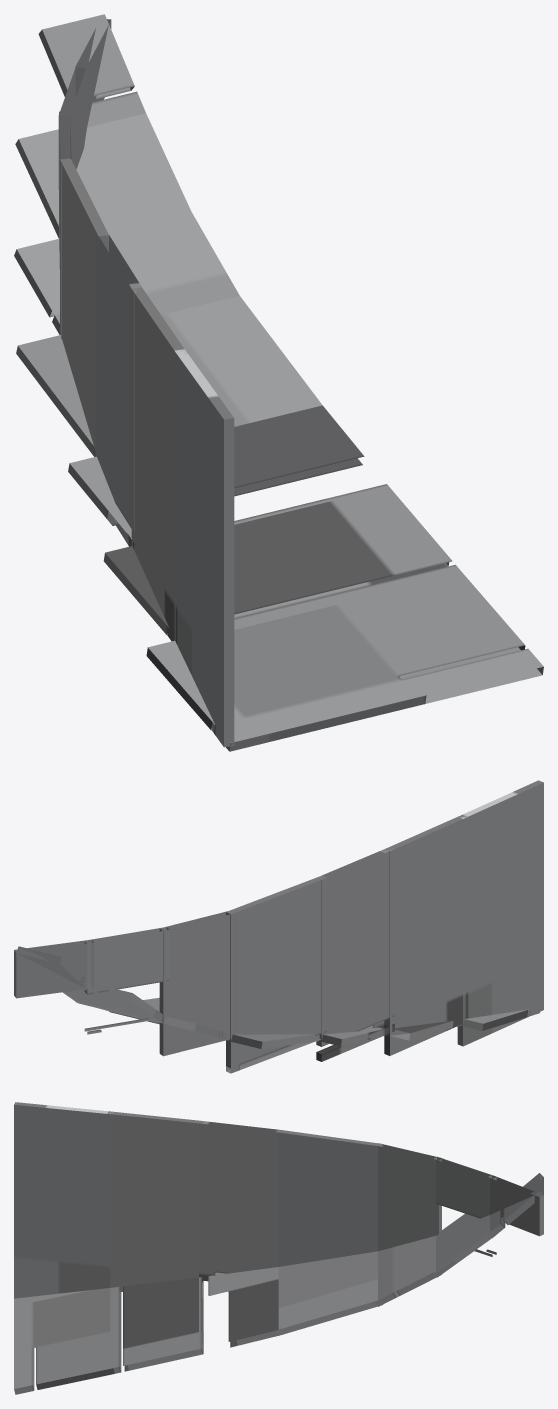
3 views of the same model, one above another, from view 1: azimuth 30°, elevation 25°; view 2: azimuth 150°, elevation 25°; view 3: azimuth 270°, elevation 25° (orthographic). The views are drawn at different scales.
Size of the model in its own units: 1.04 by 1.04 by 2.45.
